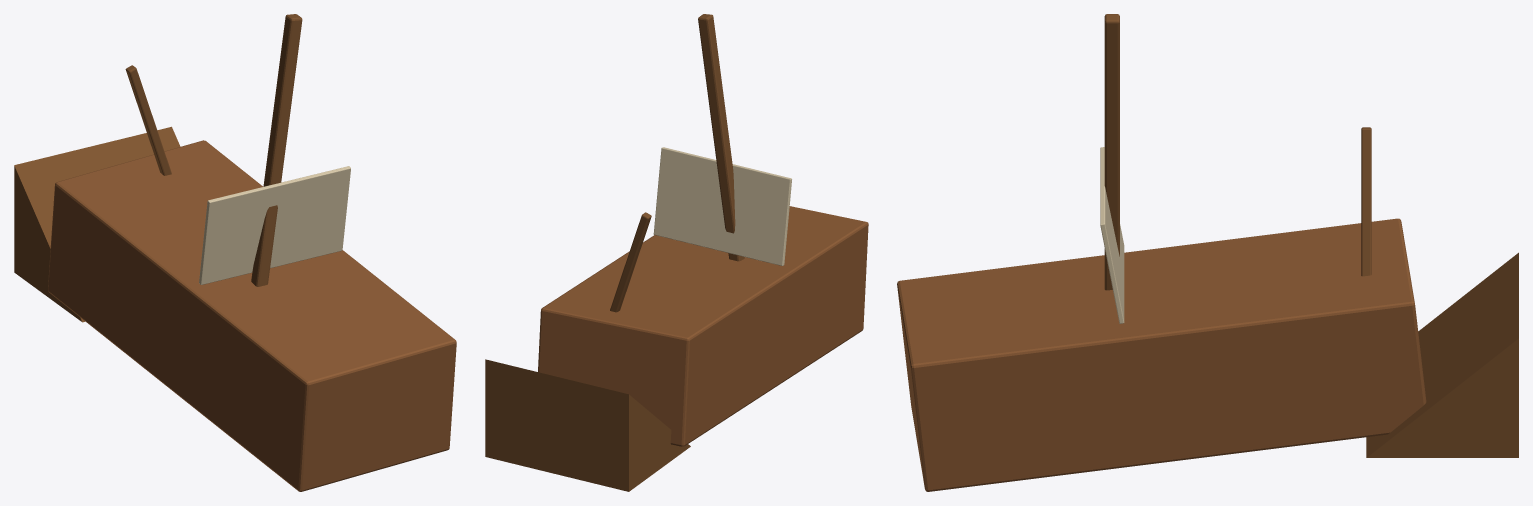
Rendered from Scuba_Ship.fbx.
3 views of the same model, side by side, from view 1: azimuth 30°, elevation 25°; view 2: azimuth 150°, elevation 25°; view 3: azimuth 270°, elevation 25° (orthographic). The views are drawn at different scales.
Parts seen in each view (by area): view 1: Ship; view 2: Ship; view 3: Ship.
Boxes of the visible parts, x1,y1,x2,y2 form: Ship: (14, 14, 456, 491); Ship: (485, 14, 868, 491); Ship: (897, 14, 1518, 491).
Size of the model in its own units: 4.7 by 9.49 by 12.24.
